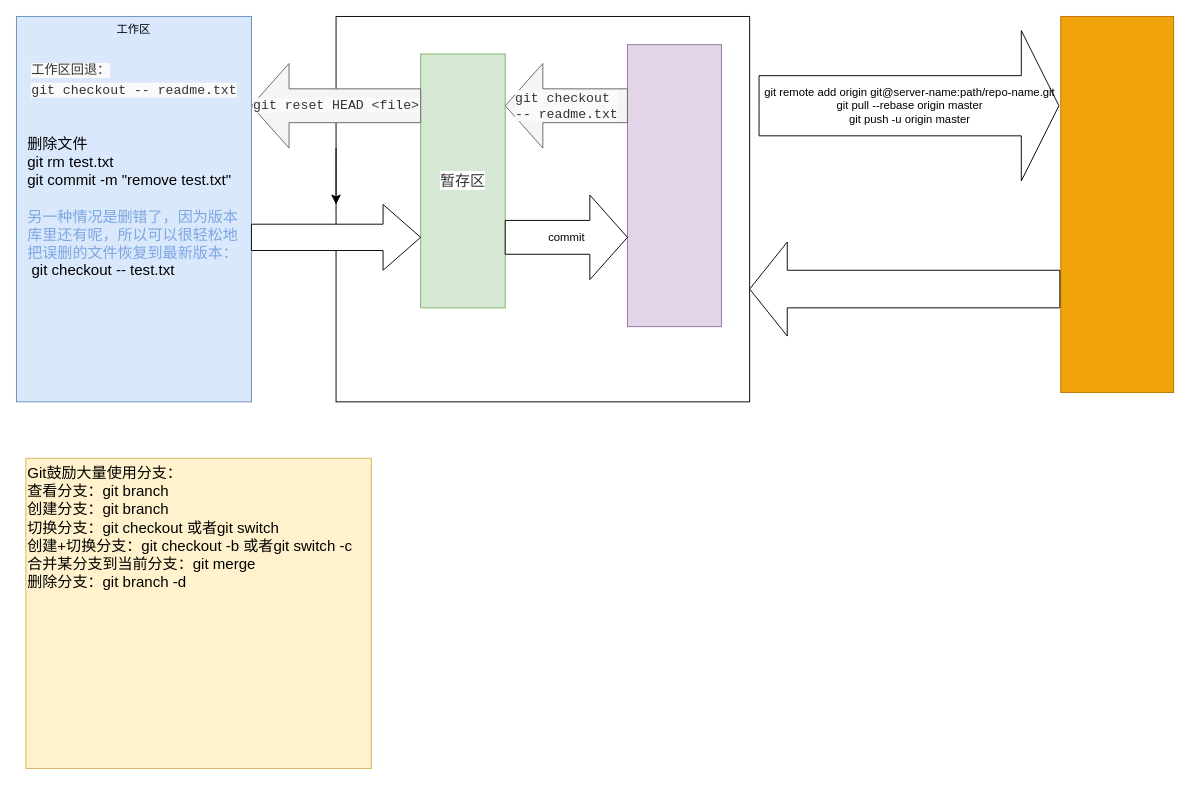
Some shapes in this 1190 by 785 pixel diagram are drawn without their labels. Here are the shapes that lost their labels. From the top down, the centre of each, then its label:
At pixel 1117 204: "远程仓库".
At pixel 336 237: "add".
At pixel 904 288: "git clone".
